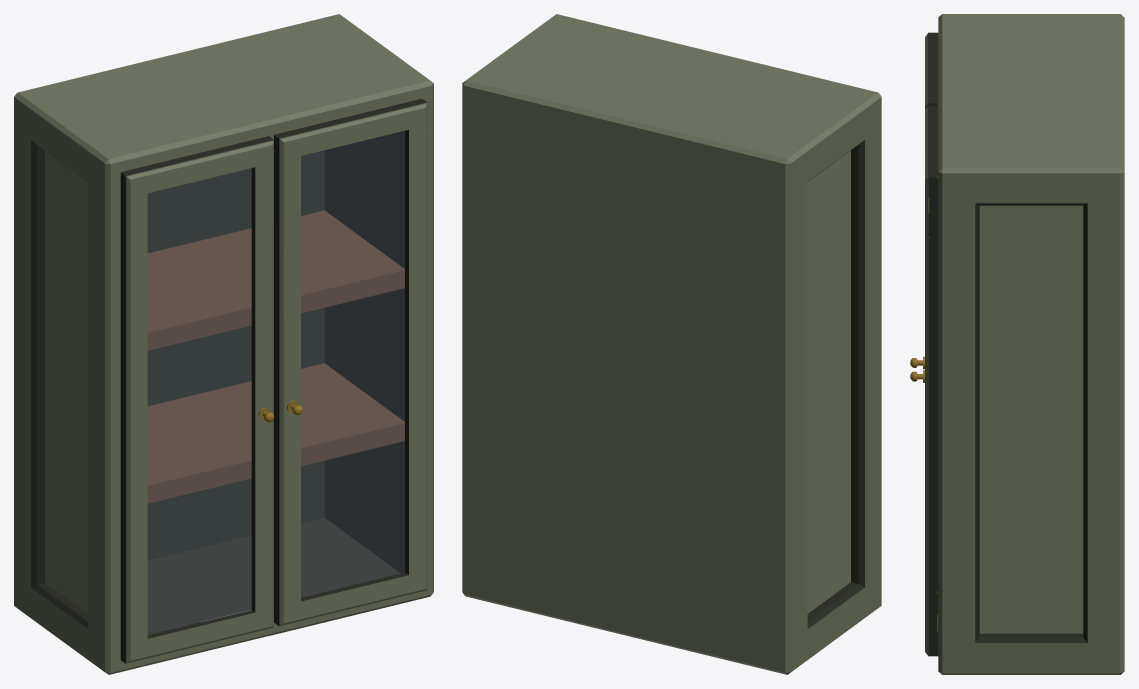
The model's file is HangingCabinetwithGlass.fbx.
3 views of the same model, side by side, from view 1: azimuth 30°, elevation 25°; view 2: azimuth 150°, elevation 25°; view 3: azimuth 270°, elevation 25° (orthographic).
Visible parts, largest first — view 1: Hanging Cabinet with Glass; view 2: Hanging Cabinet with Glass; view 3: Hanging Cabinet with Glass.
Part boxes in pixels (<box>): Hanging Cabinet with Glass: <box>14,14,433,674</box>; Hanging Cabinet with Glass: <box>462,14,881,674</box>; Hanging Cabinet with Glass: <box>910,14,1124,674</box>.
Size of the model in its own units: 100 by 150 by 57.47.
2 materials, 1 textured.
